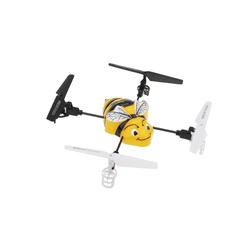drone: (44, 61, 214, 189)
